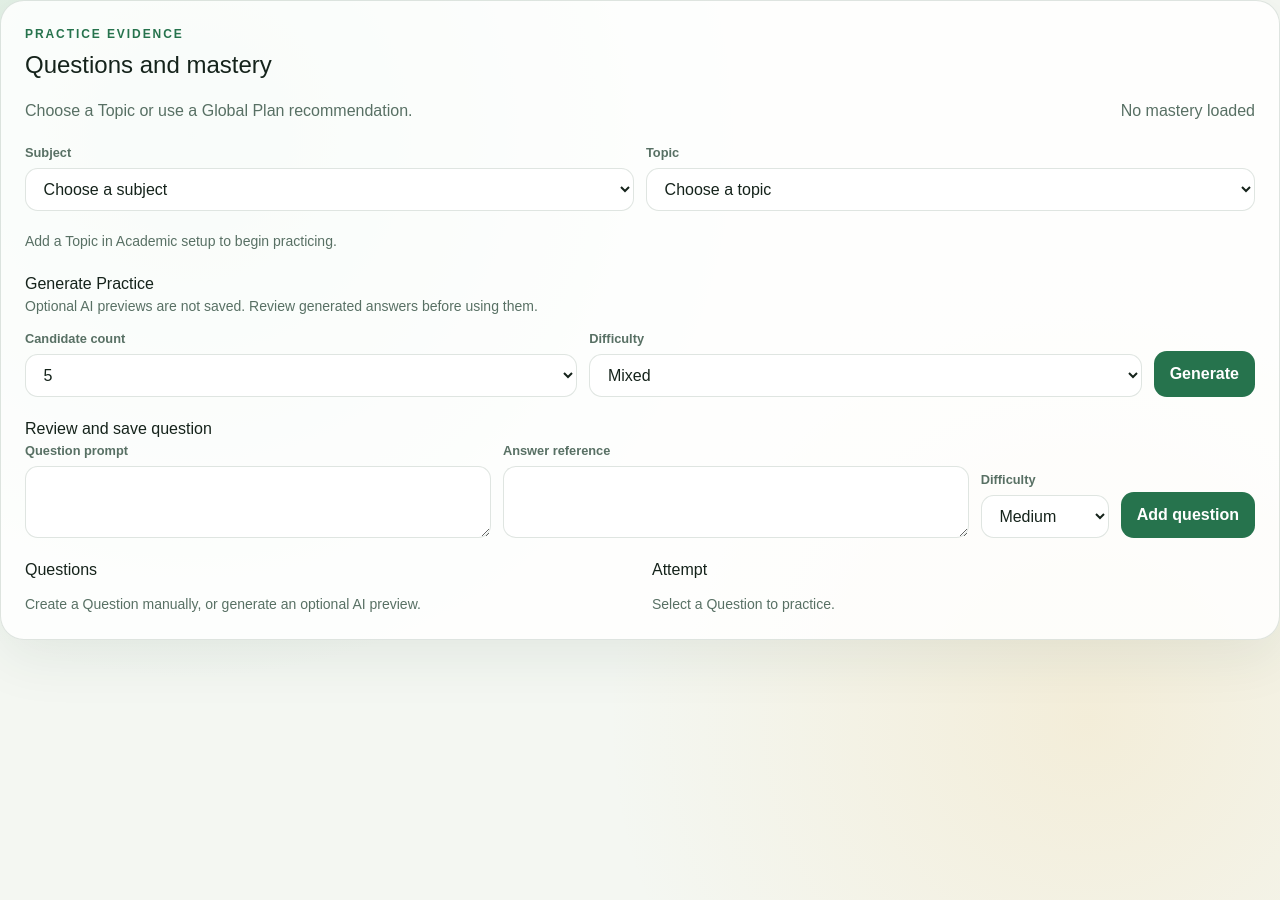
PracticeManager › shows generation errors, retries, and clears candidates when the Topic changes
Step 1. Click the button "Generate" → (1204, 374), box [1154, 351, 1255, 397]
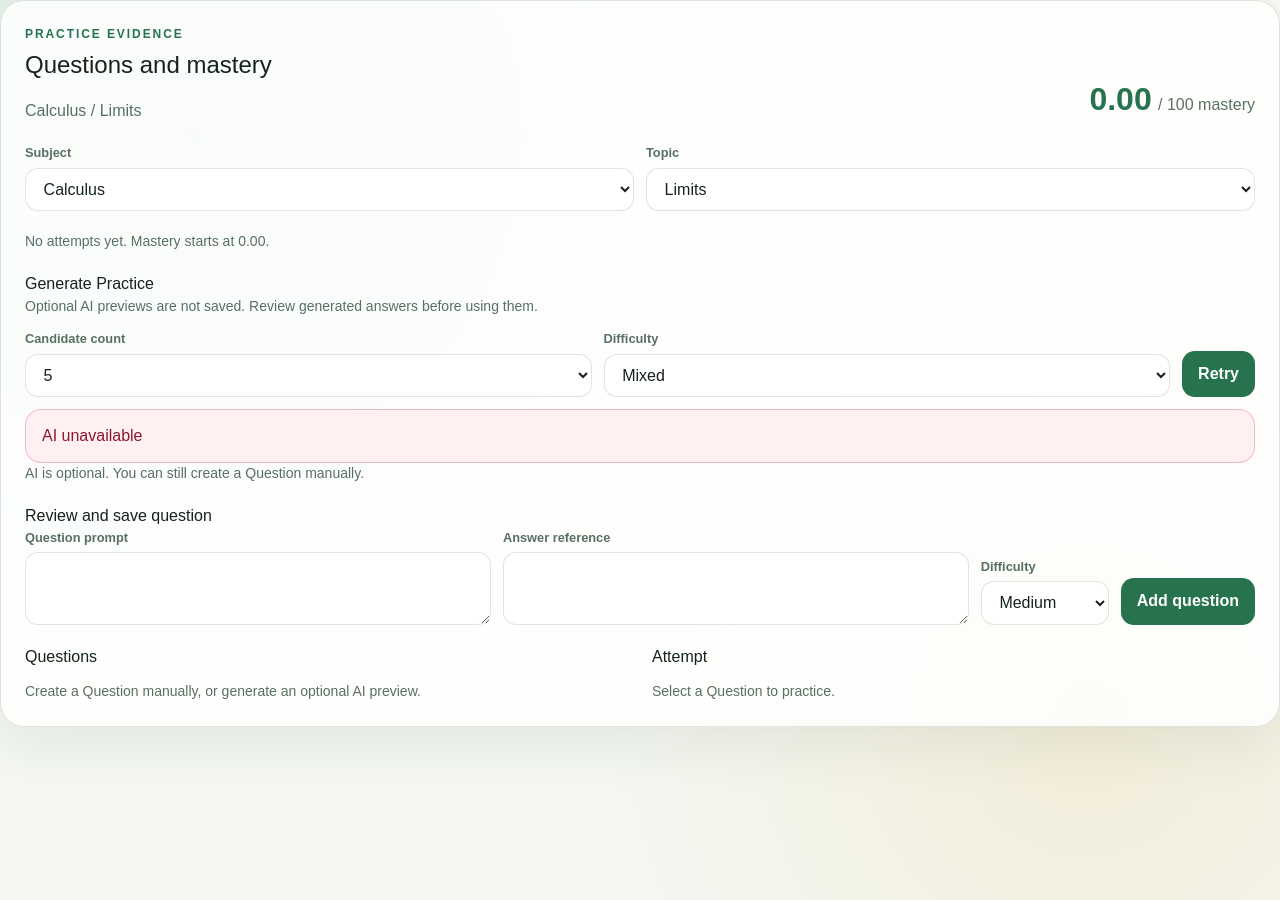
Result: the text "AI unavailable" is shown at [25, 409, 1255, 462]
Step 2. Click the button "Retry" → (1219, 374), box [1182, 351, 1255, 397]
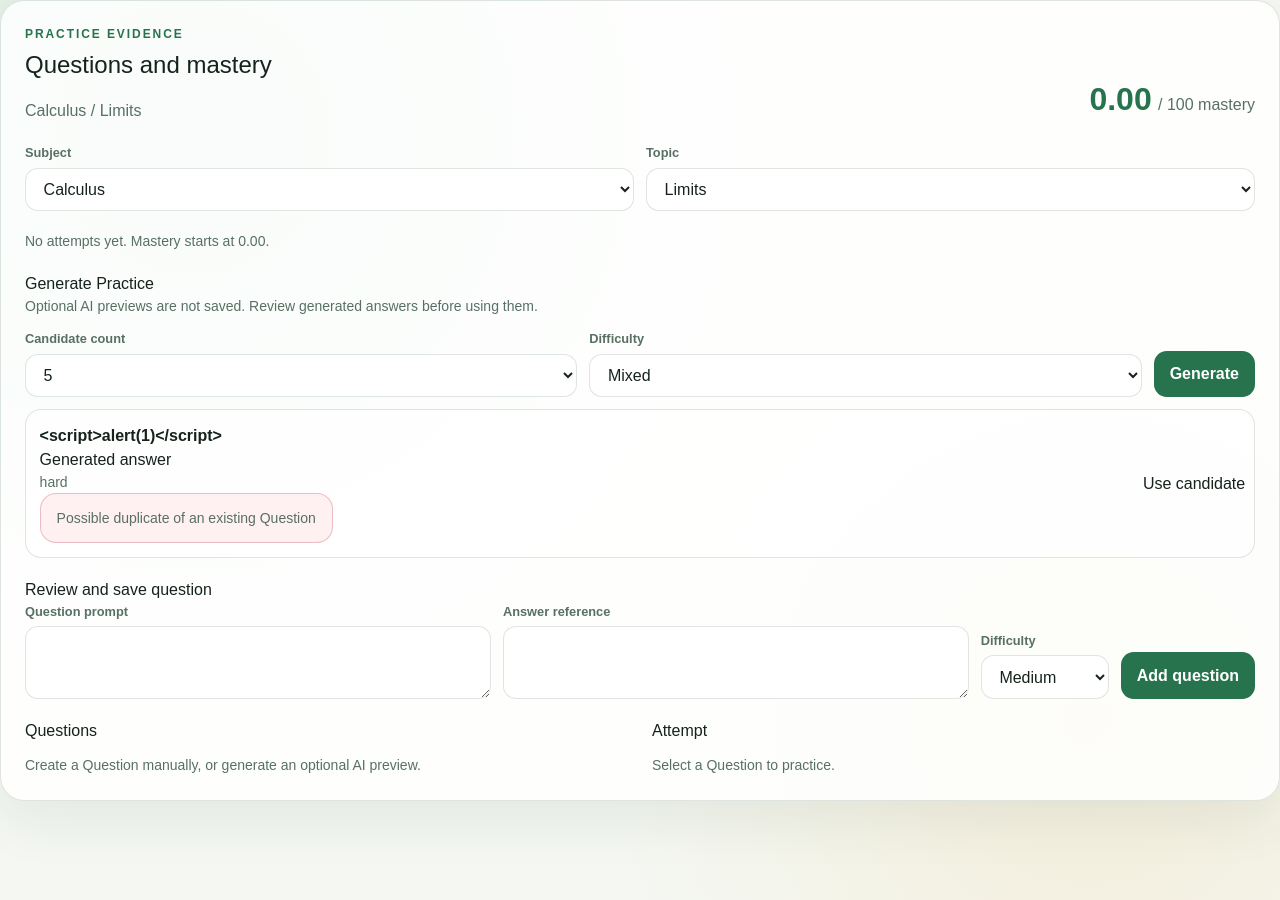
Result: the button "Use candidate" is shown at [1143, 472, 1245, 496]
Step 3. Select "Integrals" in the dropdown named "Practice topic" → (950, 190), box [646, 168, 1255, 211]
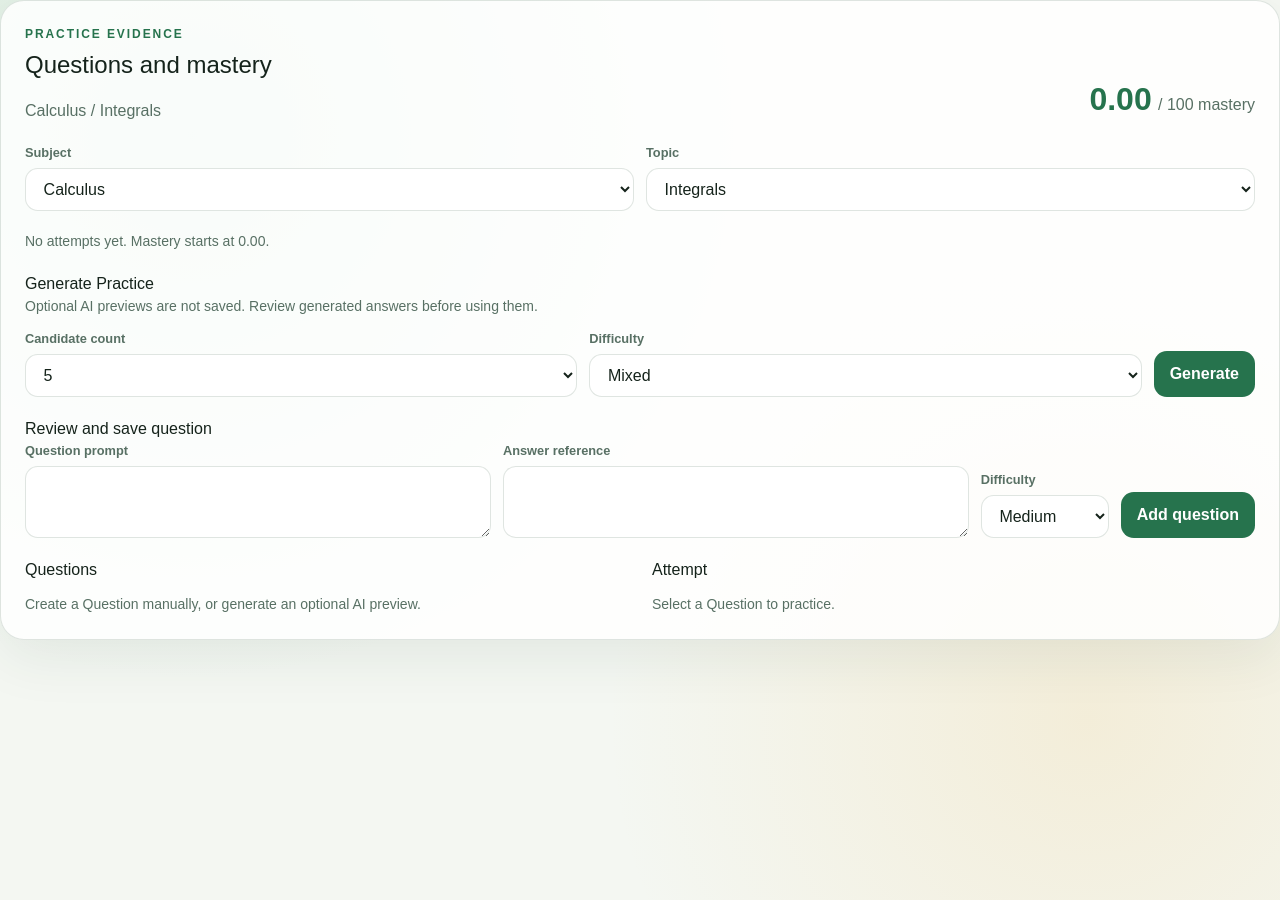
Expected: the text "AI unavailable" is not shown
Result: the button "Use candidate" is gone
